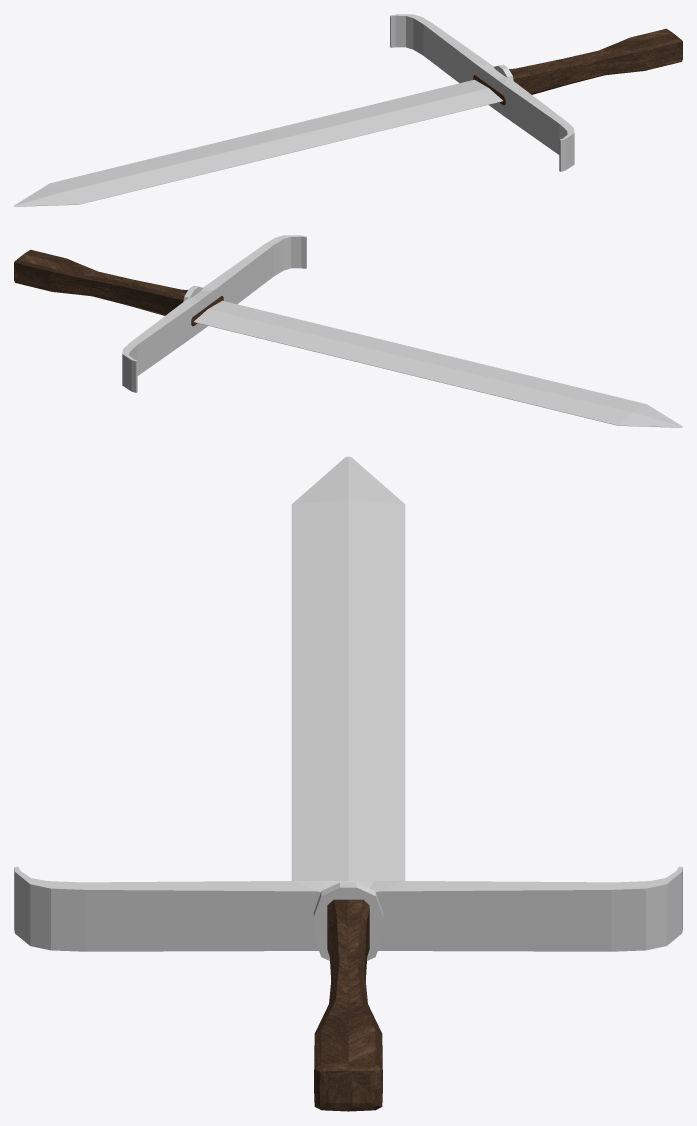
File: Low-Poly_Steel_Sword_with_Wooden_Hilt.glb
3 views of the same model, one above another, from view 1: azimuth 30°, elevation 25°; view 2: azimuth 150°, elevation 25°; view 3: azimuth 270°, elevation 25° (orthographic). The views are drawn at different scales.
Visible parts, largest first — view 1: Cube_Metal_0, Cube_Hilt_0; view 2: Cube_Metal_0, Cube_Hilt_0; view 3: Cube_Metal_0, Cube_Hilt_0.
Part boxes in pixels (x1,y1,x2,y2): Cube_Metal_0: (14, 14, 574, 206); Cube_Hilt_0: (473, 28, 682, 105); Cube_Metal_0: (122, 235, 682, 427); Cube_Hilt_0: (14, 249, 223, 326); Cube_Metal_0: (14, 456, 682, 960); Cube_Hilt_0: (314, 899, 382, 1111).
Size of the model in its own units: 34.41 by 1.98 by 15.36.
Materials: 2 (1 with a texture image).
